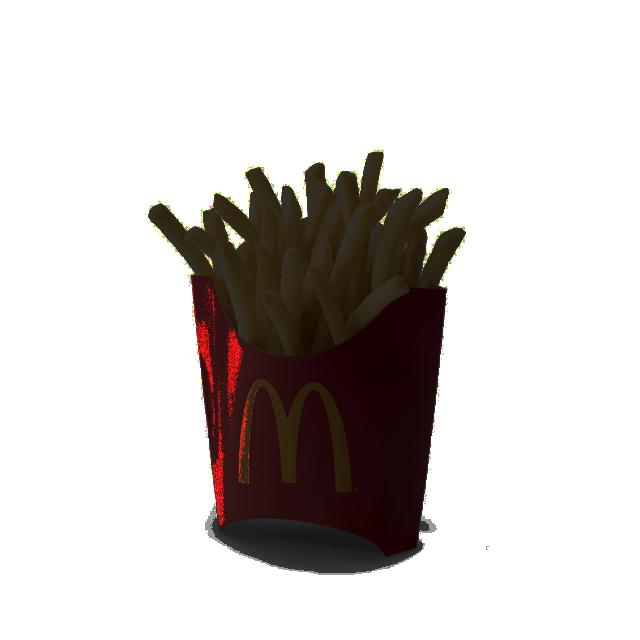french fries: (150, 150, 465, 356)
